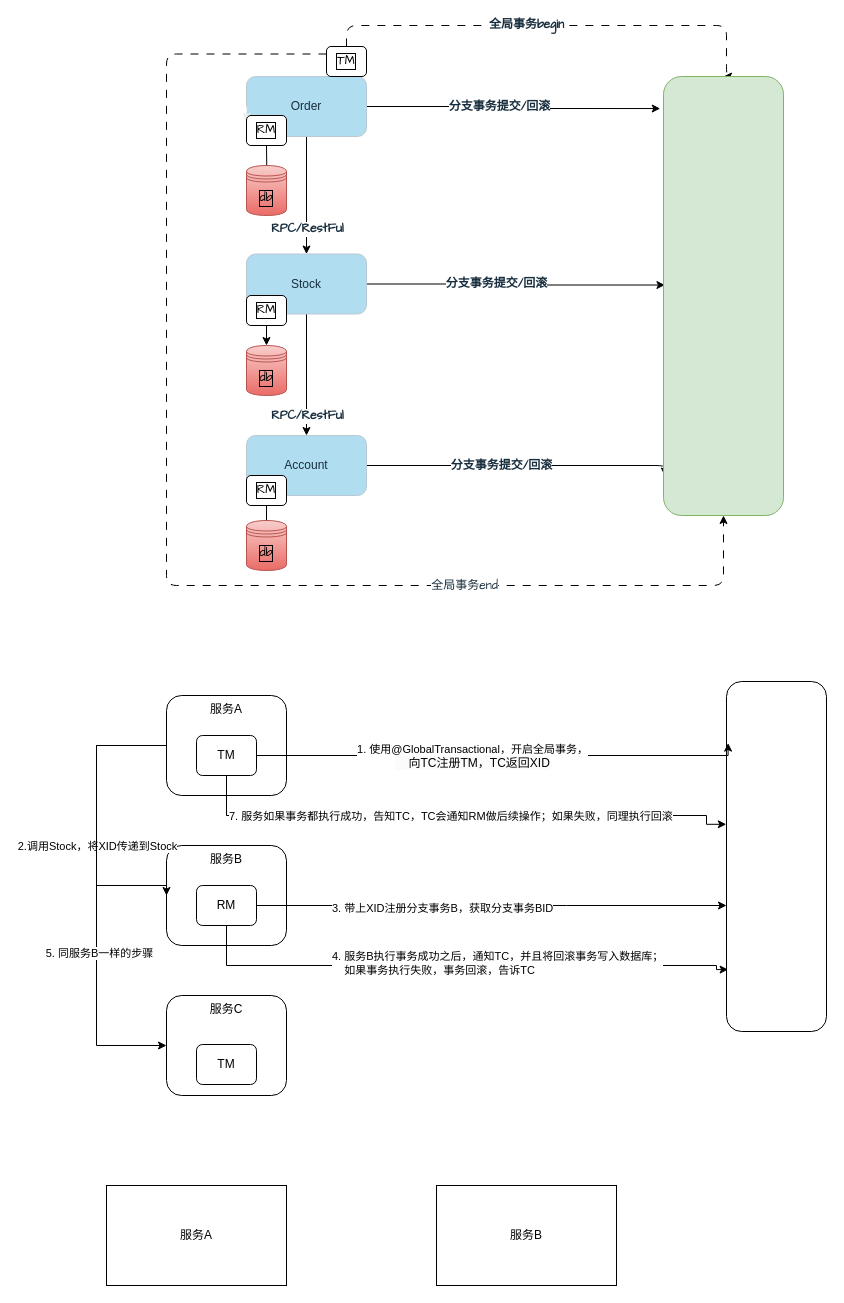
Some shapes in this 844 by 1303 pixel diagram are drawn without their labels. Each missing label, with the centre of its shape:
Seata Service: [723,296]
TC（事务协调器）: [776,856]
